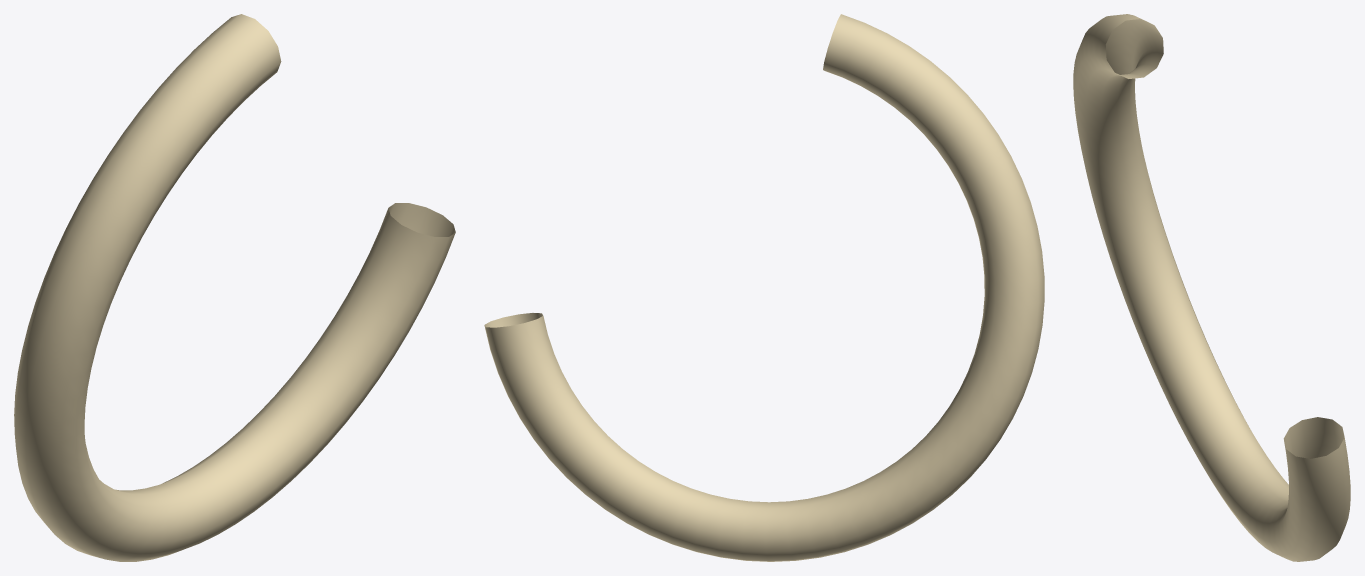
The model's file is angavastram.glb.
3 views of the same model, side by side, from view 1: azimuth 30°, elevation 25°; view 2: azimuth 150°, elevation 25°; view 3: azimuth 270°, elevation 25° (orthographic). The views are drawn at different scales.
Parts seen in each view (by area): view 1: cloth; view 2: cloth; view 3: cloth.
Part boxes in pixels (x1=…): cloth: x1=14, y1=14, x2=455, y2=561; cloth: x1=484, y1=14, x2=1044, y2=561; cloth: x1=1073, y1=14, x2=1350, y2=561.
Size of the model in its own units: 0.8663 by 0.9006 by 0.4474.
